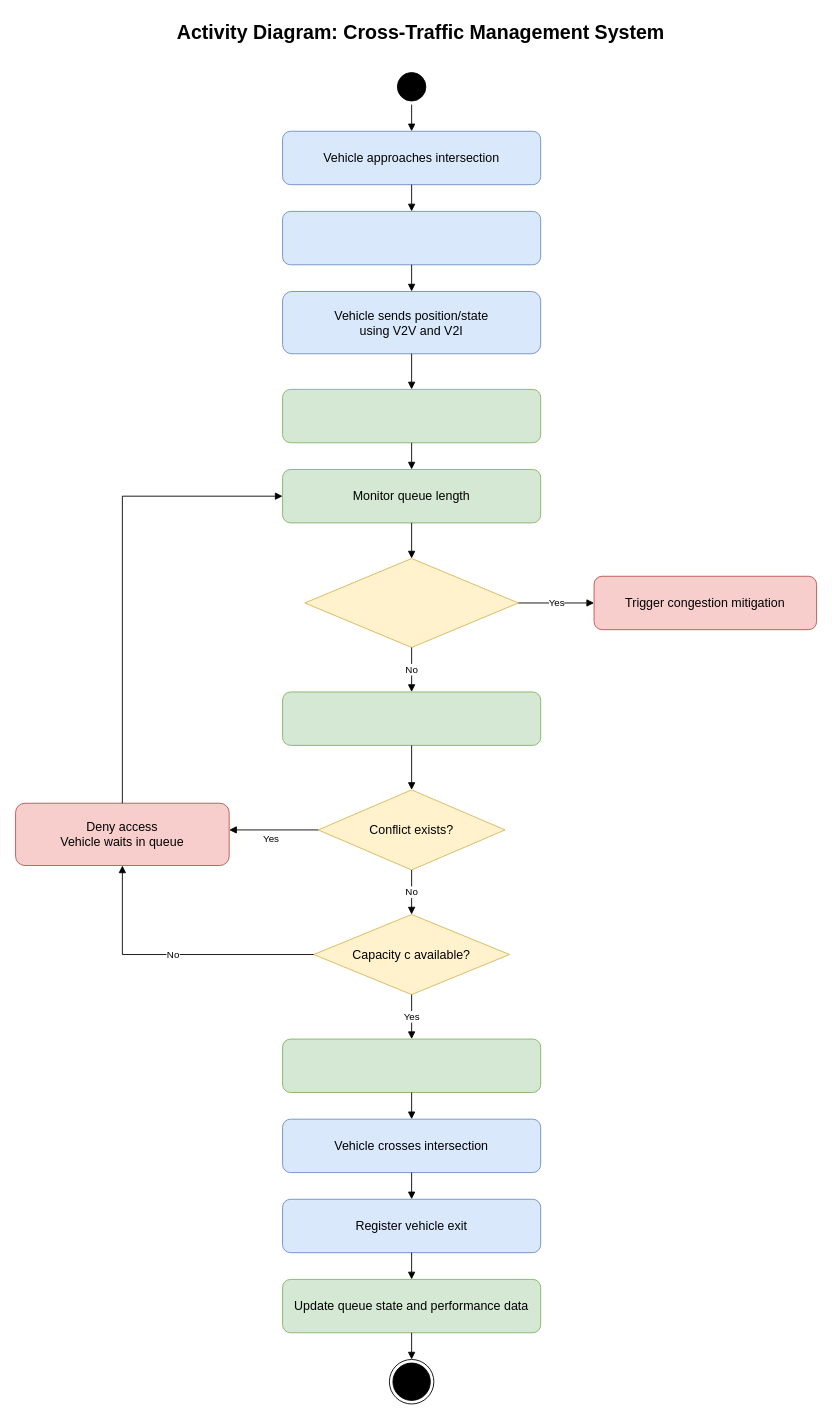
The diagram is 832 pixels wide and 1420 high, and some of its shapes have lost their labels. Each missing label, with the centre of its shape:
"Check vehicle path conflict" belongs at (x=411, y=718).
"Controller adds vehicle to M/M/c queue" belongs at (x=411, y=415).
"Grant access" belongs at (x=411, y=1065).
"Queue above threshold?" belongs at (x=411, y=602).
"System detects vehicle from direction" belongs at (x=411, y=237).
